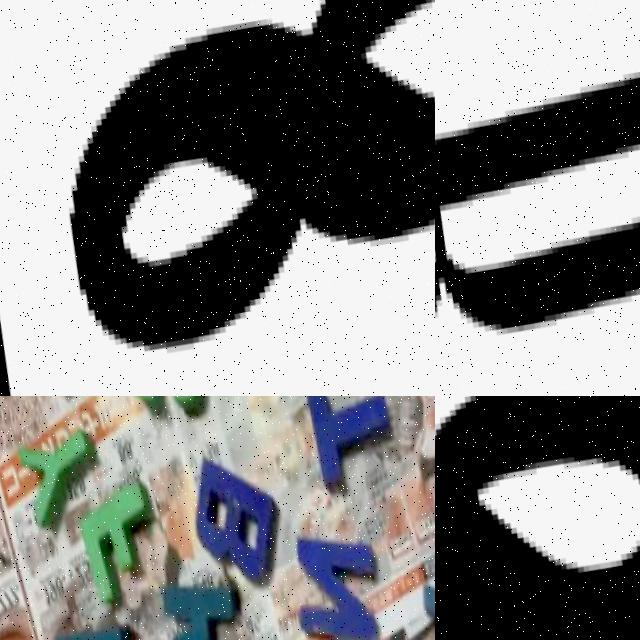8: (9, 0, 435, 370), (435, 396, 640, 640)
B: (187, 458, 281, 590)
C: (120, 396, 208, 418)
F: (74, 471, 165, 607)
K: (153, 576, 249, 640)
N: (286, 526, 387, 640)
R: (435, 5, 640, 396)
T: (307, 396, 399, 499)
Y: (12, 420, 101, 531)
